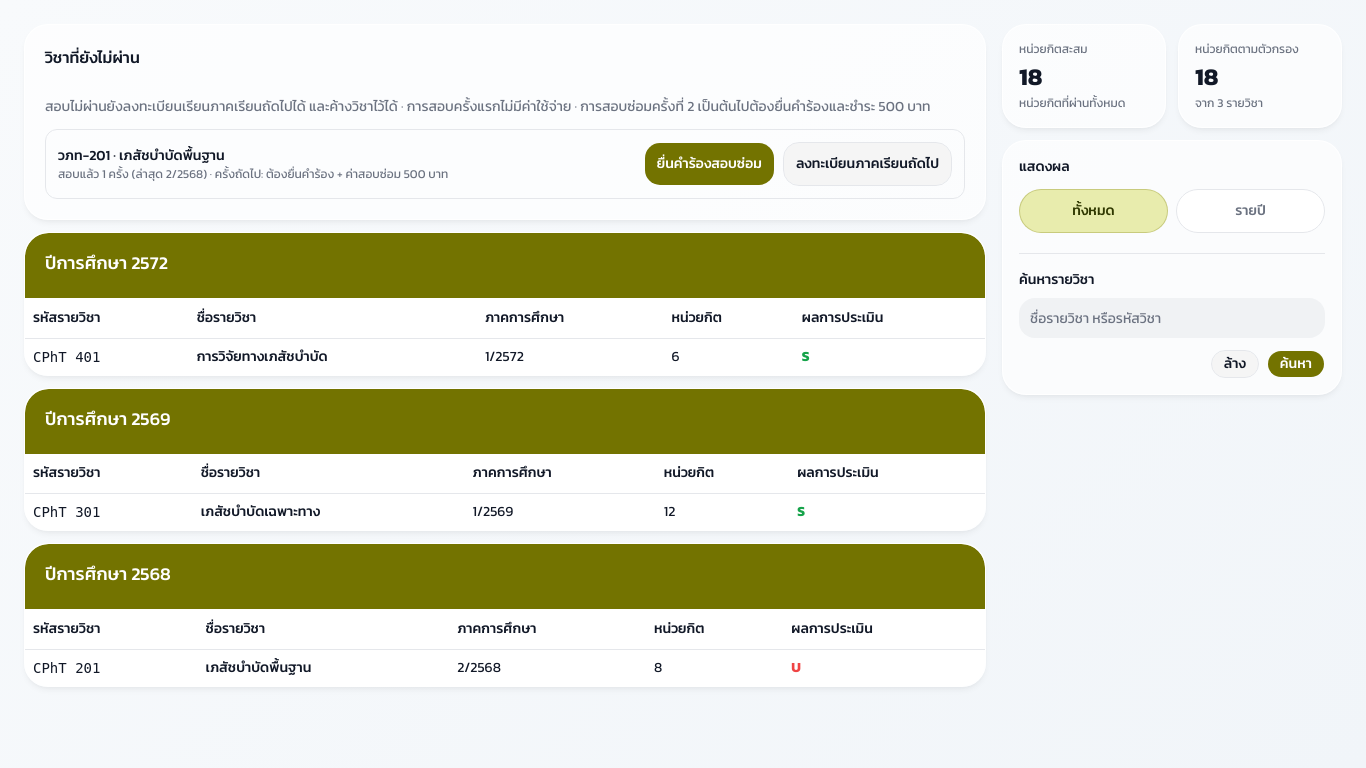
MemberResultsPage › derives yearly filter options from the member's published result data
Click the button "รายปี".
click(1250, 211)  # box [1176,189,1325,233]
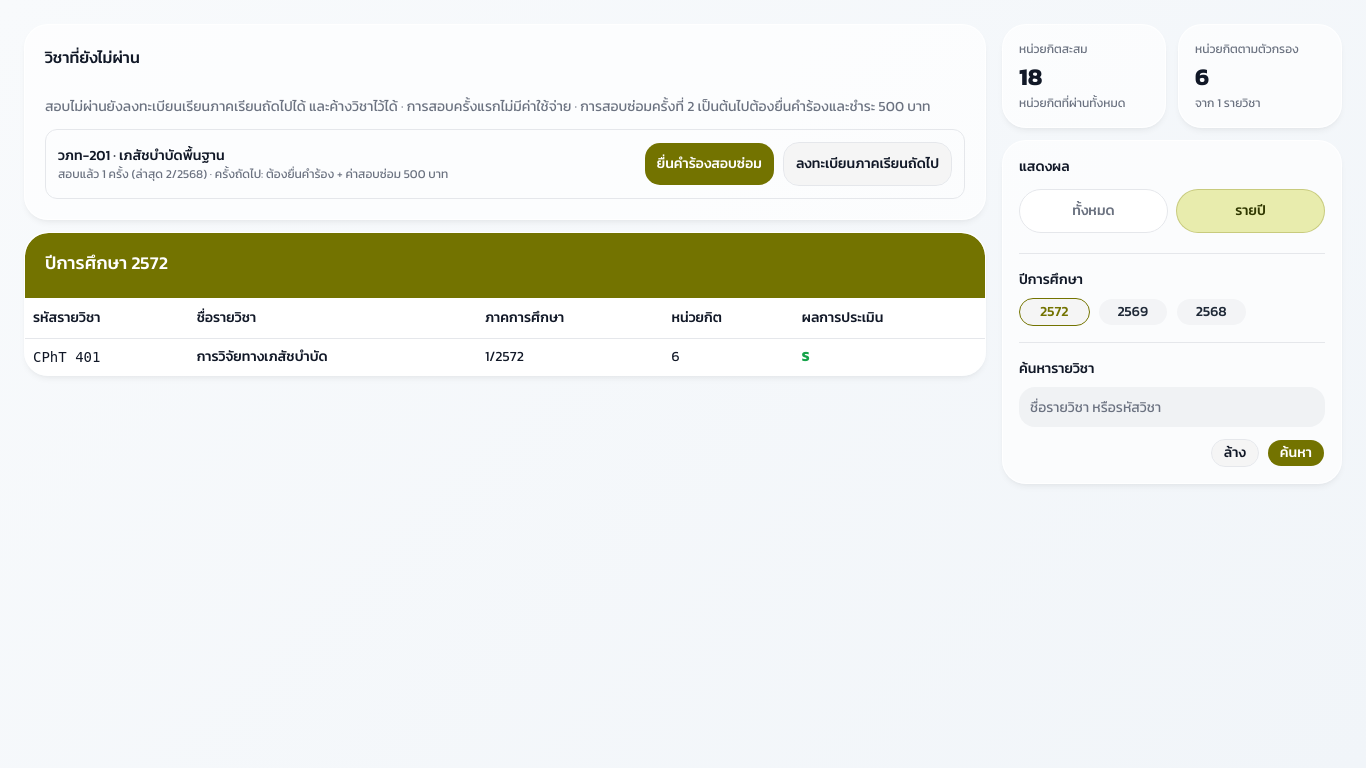
Expected: the button "2569" is shown, [1098,298,1168,326]
Expected: the button "2572" is shown, [1019,298,1090,326]
Expected: the text "ปีการศึกษา 2569" is gone
